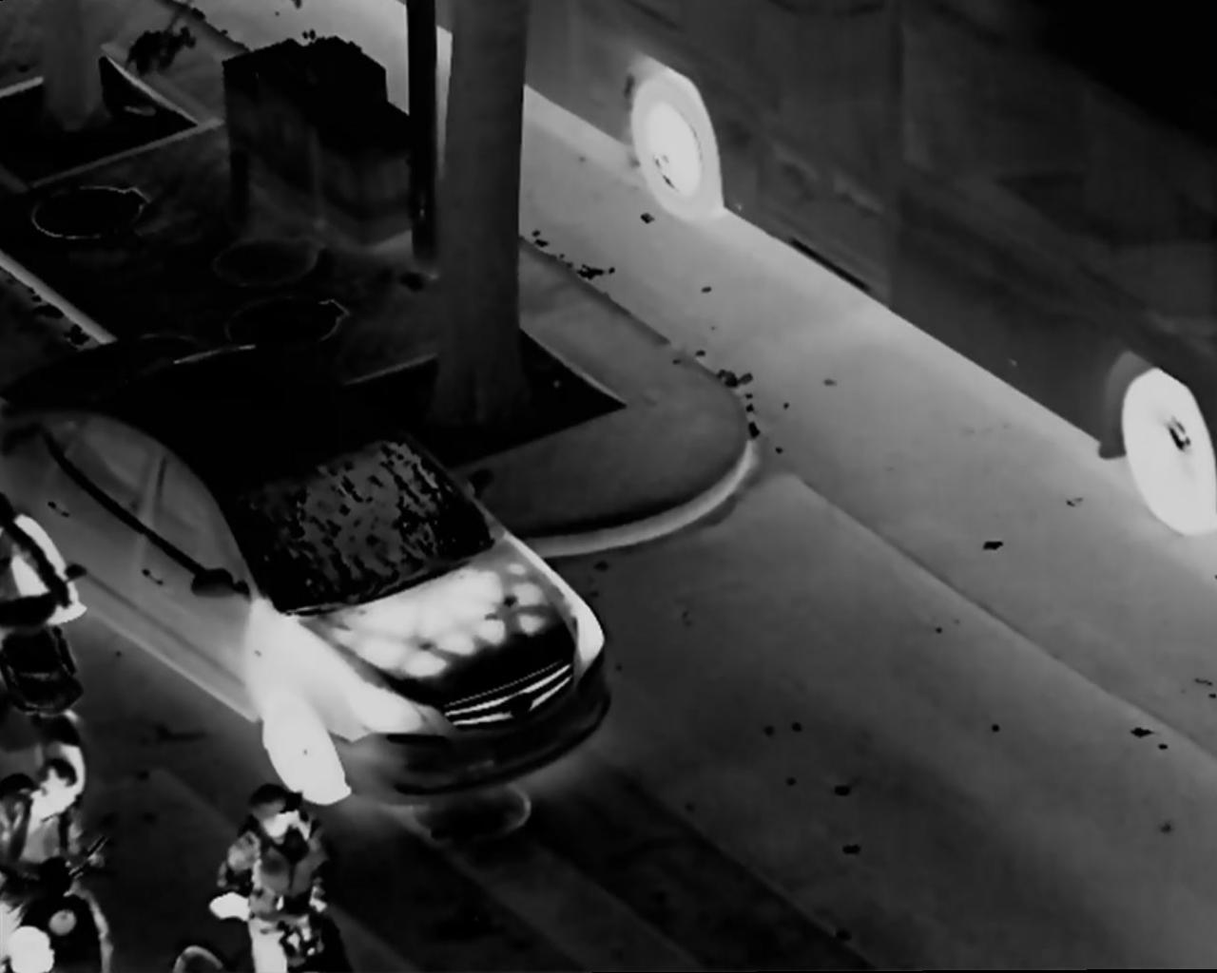person: (205, 779, 351, 973), (15, 748, 107, 943)
